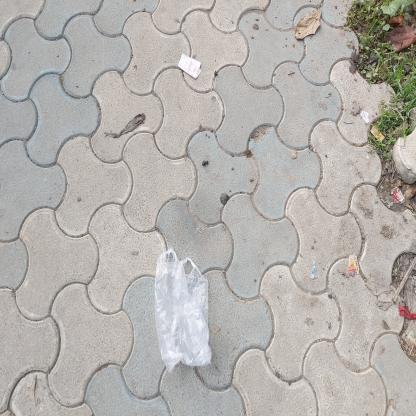trash: (32, 199, 130, 293), (252, 236, 274, 272)
